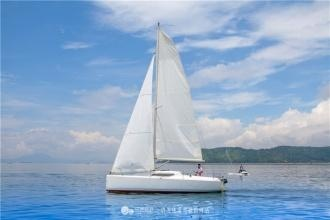fanchuan: (102, 19, 234, 192)
